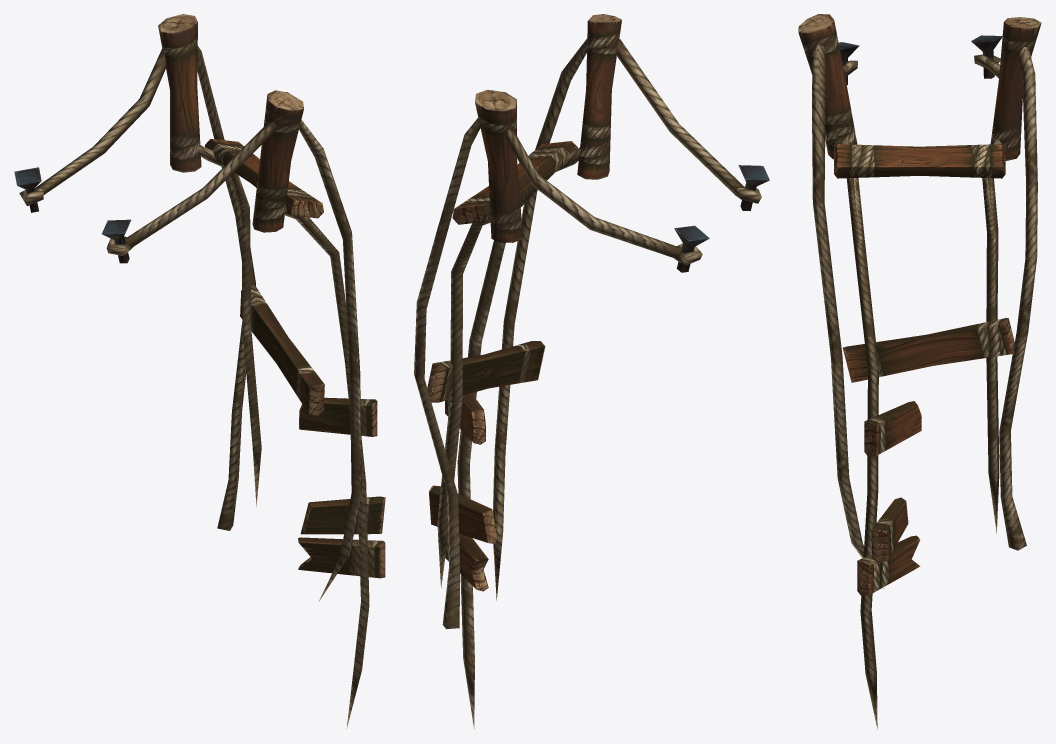
File: rope_bridge_ruin_r_02.fbx
3 renders of one model, left to right at view 1: azimuth 30°, elevation 25°; view 2: azimuth 150°, elevation 25°; view 3: azimuth 270°, elevation 25°, orthographic. The views are drawn at different scales.
Visible parts, largest first — view 1: rope_bridge_ruin_r_02; view 2: rope_bridge_ruin_r_02; view 3: rope_bridge_ruin_r_02.
Part boxes in pixels (left/top/right/bottom): rope_bridge_ruin_r_02: left=14, top=14, right=385, bottom=728; rope_bridge_ruin_r_02: left=414, top=14, right=769, bottom=728; rope_bridge_ruin_r_02: left=798, top=14, right=1041, bottom=729.
Bounding box in the file's own units: 274 × 563 × 186.
